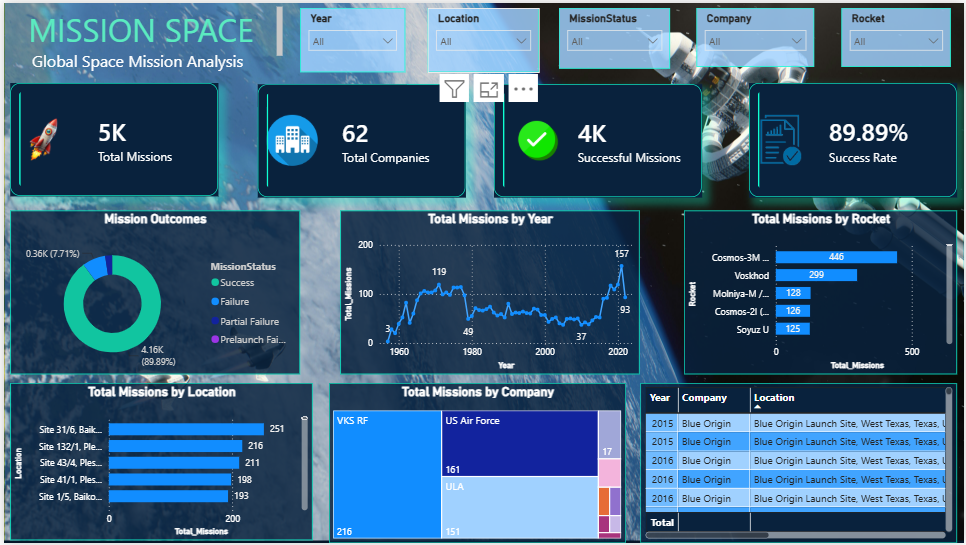

What the dashboard file says about the page in this screenshot:
{"tool":"powerbi","page":{"name":"Page 1","canvas":[1280,720],"ordinal":0},"visuals":[{"type":"cardVisual","fields":{"Data":["space_missions.Total_Missions"]},"box":[8.4,107.4,277.5,150.8],"z":0},{"type":"cardVisual","fields":{"Data":["space_missions.Total_Companies"]},"box":[337.8,108.6,277.5,150.8],"z":1000},{"type":"cardVisual","fields":{"Data":["space_missions.Successful_Missions"]},"box":[653.9,108.6,277.5,150.8],"z":2000},{"type":"cardVisual","fields":{"Data":["space_missions.Success_Rate"]},"box":[992.9,107.4,277.5,152.5],"z":3000},{"type":"lineChart","title":"Total Missions by Year","fields":{"Category":["space_missions.Date.Variation.Date Hierarchy.Year"],"Y":["space_missions.Total_Missions"]},"box":[448.8,276.3,399.3,218.4],"z":4000},{"type":"donutChart","title":"Mission Outcomes","fields":{"Category":["space_missions.MissionStatus"],"Y":["CountNonNull(space_missions.MissionStatus)"]},"box":[8.4,276.3,386.1,218.4],"z":5000},{"type":"treemap","title":"Total Missions by Company","fields":{"Group":["space_missions.Company"],"Values":["space_missions.Total_Missions"]},"box":[433.1,506.7,395.7,213.5],"z":6000},{"type":"barChart","title":"Total Missions by Location","fields":{"Category":["space_missions.Location"],"Y":["space_missions.Total_Missions"]},"box":[8.4,506.7,403,209.9],"z":7000},{"type":"barChart","title":"Total Missions by Rocket","fields":{"Category":["space_missions.Rocket"],"Y":["space_missions.Total_Missions"]},"box":[906,276.3,364.3,218.4],"z":8000},{"type":"tableEx","fields":{"Values":["space_missions.Date.Variation.Date Hierarchy.Year","space_missions.Company","space_missions.Location","space_missions.Rocket","space_missions.Mission","space_missions.MissionStatus"]},"box":[848.1,506.7,422.3,213.5],"z":9000},{"type":"textbox","box":[26.5,0,349.9,98.9],"z":10000},{"type":"slicer","fields":{"Values":["space_missions.Date.Variation.Date Hierarchy.Year"]},"box":[394.5,6,139.9,85.7],"z":11000},{"type":"slicer","fields":{"Values":["space_missions.Company"]},"box":[922.9,6,156.8,78.4],"z":12000},{"type":"slicer","fields":{"Values":["space_missions.Rocket"]},"box":[1116,6,146,78.4],"z":13000},{"type":"slicer","fields":{"Values":["space_missions.MissionStatus"]},"box":[740.8,6,148.4,80.8],"z":14000},{"type":"slicer","fields":{"Values":["space_missions.Location"]},"box":[564.6,7.2,148.4,85.7],"z":14001}]}

Visuals, with their boxes in screenshot pixels (x1, y1, x2, y2), scaled from the page's 1280x720 canvas onto the 966x545 screenshot:
cardVisual - space_missions.Total_Missions: box=[6, 81, 216, 195]
cardVisual - space_missions.Total_Companies: box=[255, 82, 464, 196]
cardVisual - space_missions.Successful_Missions: box=[493, 82, 703, 196]
cardVisual - space_missions.Success_Rate: box=[749, 81, 959, 197]
"Total Missions by Year" lineChart: box=[339, 209, 640, 374]
"Mission Outcomes" donutChart: box=[6, 209, 298, 374]
"Total Missions by Company" treemap: box=[327, 384, 625, 544]
"Total Missions by Location" barChart: box=[6, 384, 310, 542]
"Total Missions by Rocket" barChart: box=[684, 209, 959, 374]
tableEx - space_missions.Date.Variation.Date Hierarchy.Year x space_missions.Company: box=[640, 384, 959, 544]
textbox: box=[20, 0, 284, 75]
slicer - space_missions.Date.Variation.Date Hierarchy.Year: box=[298, 5, 403, 69]
slicer - space_missions.Company: box=[697, 5, 815, 64]
slicer - space_missions.Rocket: box=[842, 5, 952, 64]
slicer - space_missions.MissionStatus: box=[559, 5, 671, 66]
slicer - space_missions.Location: box=[426, 5, 538, 70]
